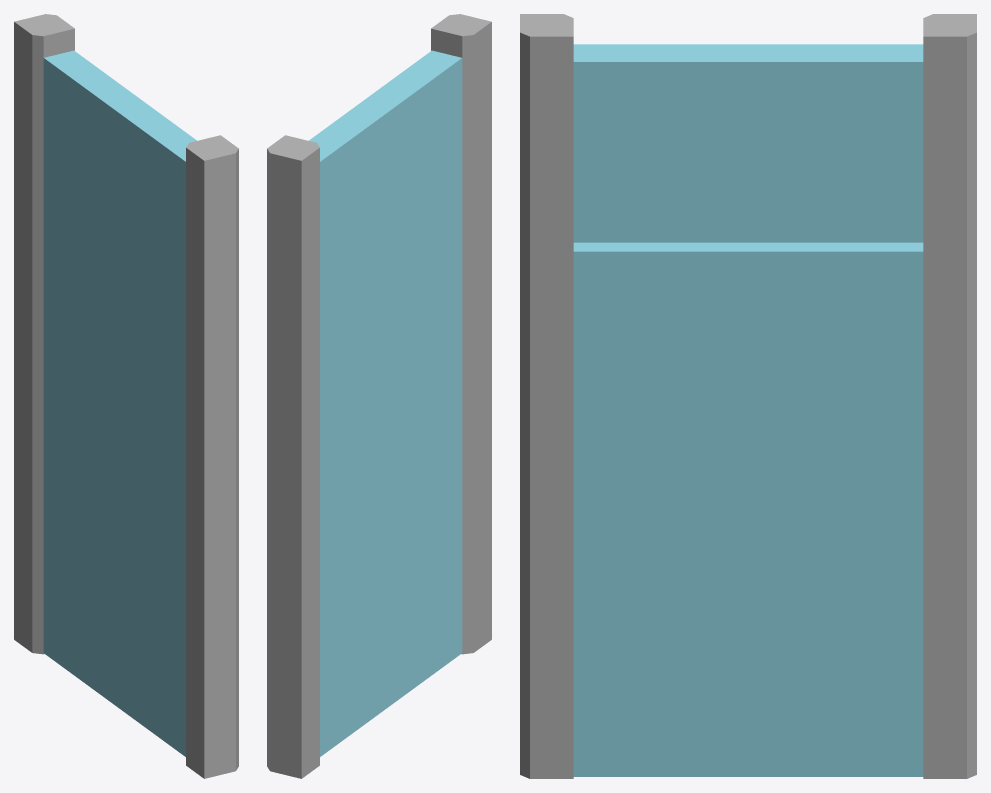
Rendered from MurCote4.fbx.
The picture shows the model from 3 angles, left to right: view 1: azimuth 30°, elevation 25°; view 2: azimuth 150°, elevation 25°; view 3: azimuth 270°, elevation 25°; orthographic projection. The views are drawn at different scales.
Visible parts, largest first — view 1: Cube.032, Cube.031, Cube.035; view 2: Cube.032, Cube.035, Cube.031; view 3: Cube.032, Cube.031, Cube.035.
Boxes of the visible parts, left/top/right/bottom form: Cube.032: left=43, top=50, right=196, bottom=756; Cube.031: left=186, top=135, right=238, bottom=778; Cube.035: left=14, top=14, right=74, bottom=654; Cube.032: left=309, top=50, right=462, bottom=756; Cube.035: left=267, top=135, right=319, bottom=778; Cube.031: left=431, top=14, right=491, bottom=654; Cube.032: left=573, top=44, right=923, bottom=776; Cube.031: left=520, top=14, right=573, bottom=778; Cube.035: left=923, top=14, right=976, bottom=778.
Bounding box in the file's own units: 85.46 × 1307 × 729.
